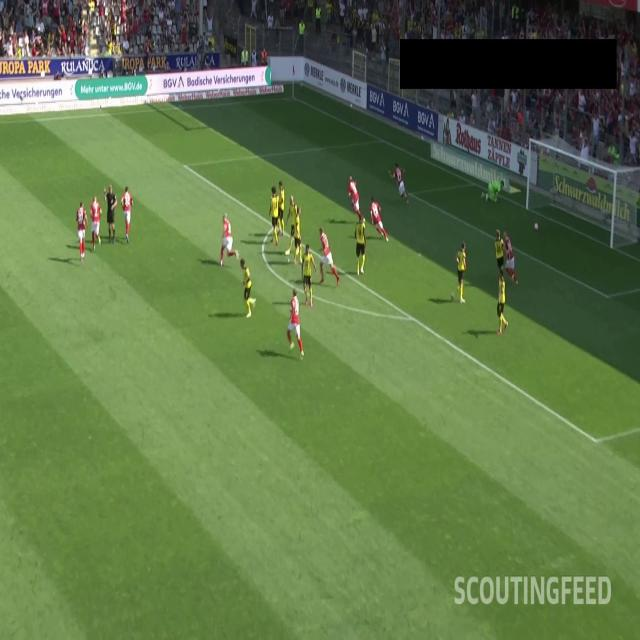ball: (532, 220, 540, 232)
player: (316, 225, 341, 285), (286, 287, 305, 361), (238, 256, 258, 319), (218, 210, 240, 267), (300, 241, 318, 309), (368, 190, 390, 243), (495, 265, 510, 336), (501, 228, 519, 287), (284, 195, 300, 259), (386, 160, 409, 204), (352, 209, 367, 275), (478, 173, 507, 205), (74, 198, 88, 263), (346, 171, 363, 224), (267, 184, 281, 246), (120, 183, 134, 244), (492, 223, 505, 286), (292, 204, 305, 266), (88, 195, 102, 252), (455, 240, 467, 306), (277, 176, 286, 235)
referee: (102, 182, 119, 247)
